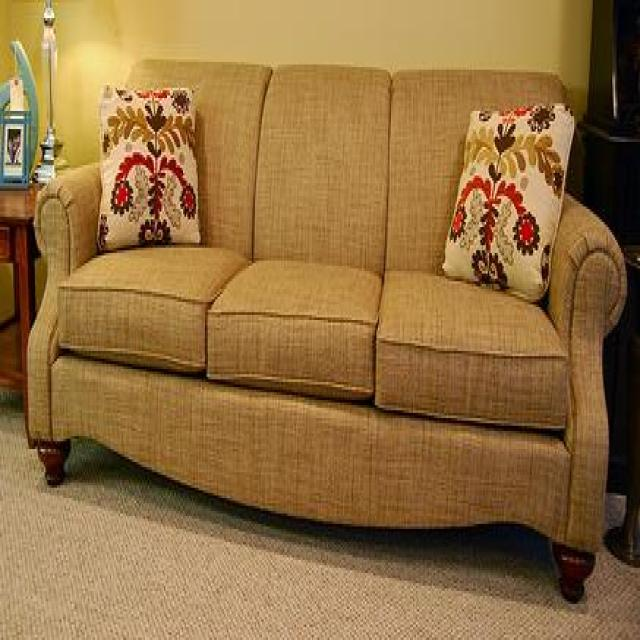sofa: (26, 56, 627, 606)
